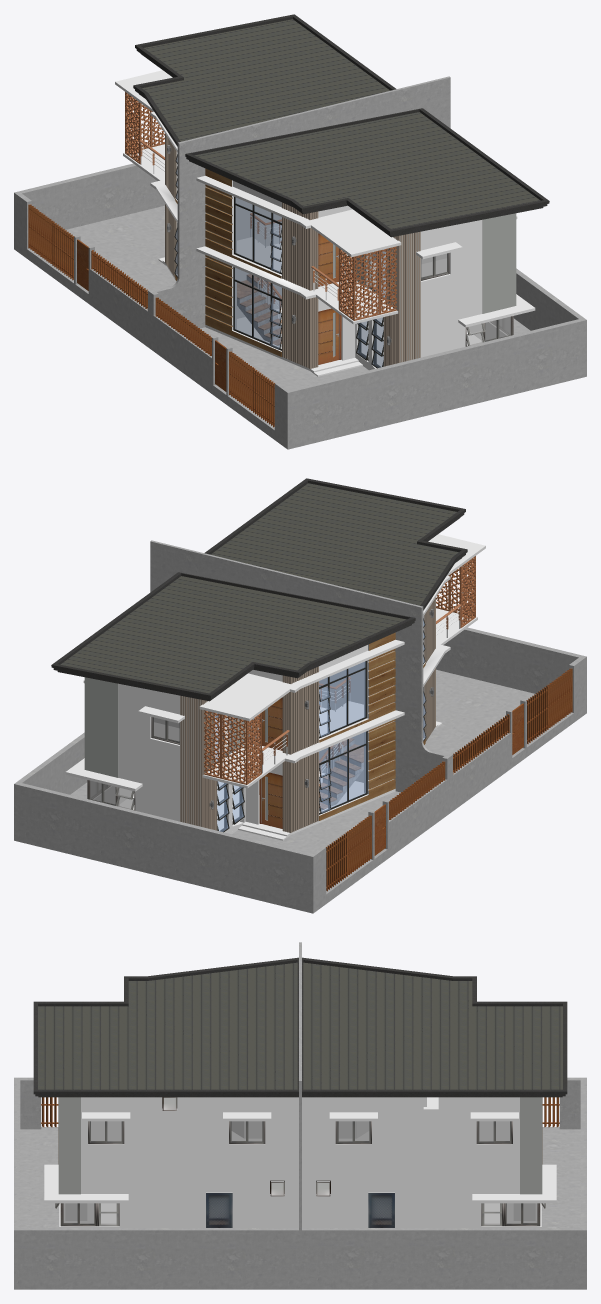
File: Duplex.glb
The picture shows the model from 3 angles, top to bottom: view 1: azimuth 30°, elevation 25°; view 2: azimuth 150°, elevation 25°; view 3: azimuth 270°, elevation 25°; orthographic projection. The views are drawn at different scales.
Parts seen in each view (by area): view 1: DUPLEX; view 2: DUPLEX; view 3: DUPLEX.
Boxes of the visible parts, x1,y1,x2,y2 form: DUPLEX: (14, 14, 586, 449); DUPLEX: (14, 478, 586, 913); DUPLEX: (14, 942, 586, 1289).
Bounding box in the file's own units: 11.99 × 7.64 × 19.
29 materials, 14 textured.
